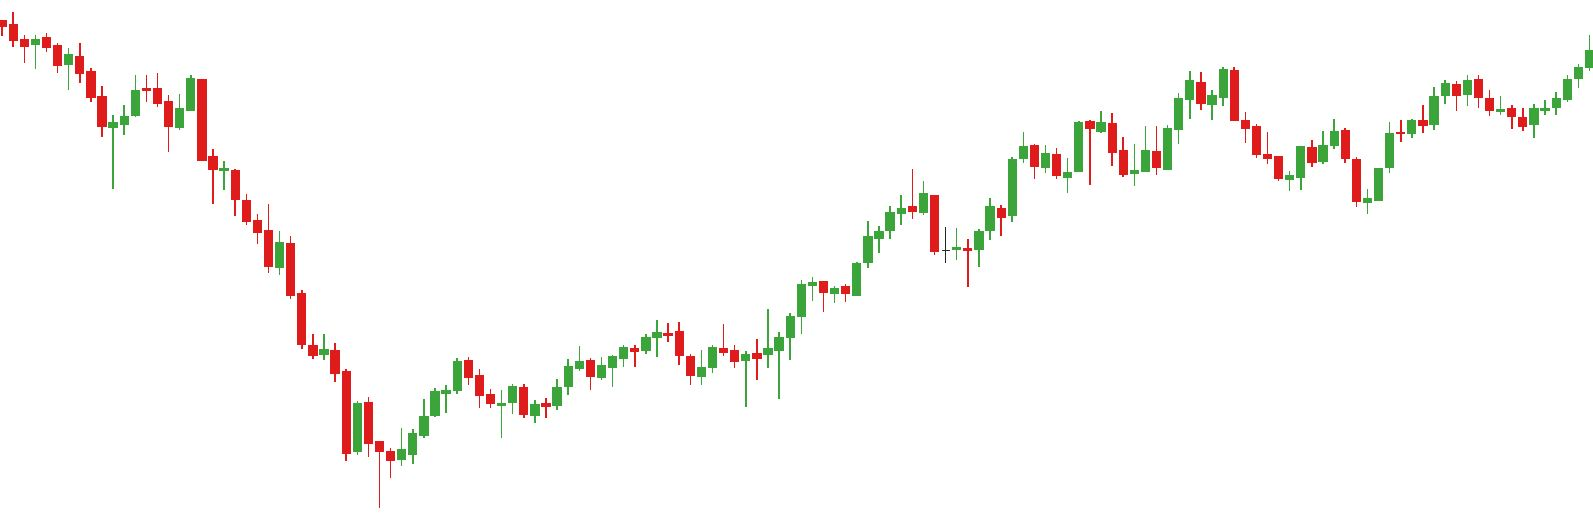buy: (1283, 136, 1384, 218), (686, 339, 751, 407)
